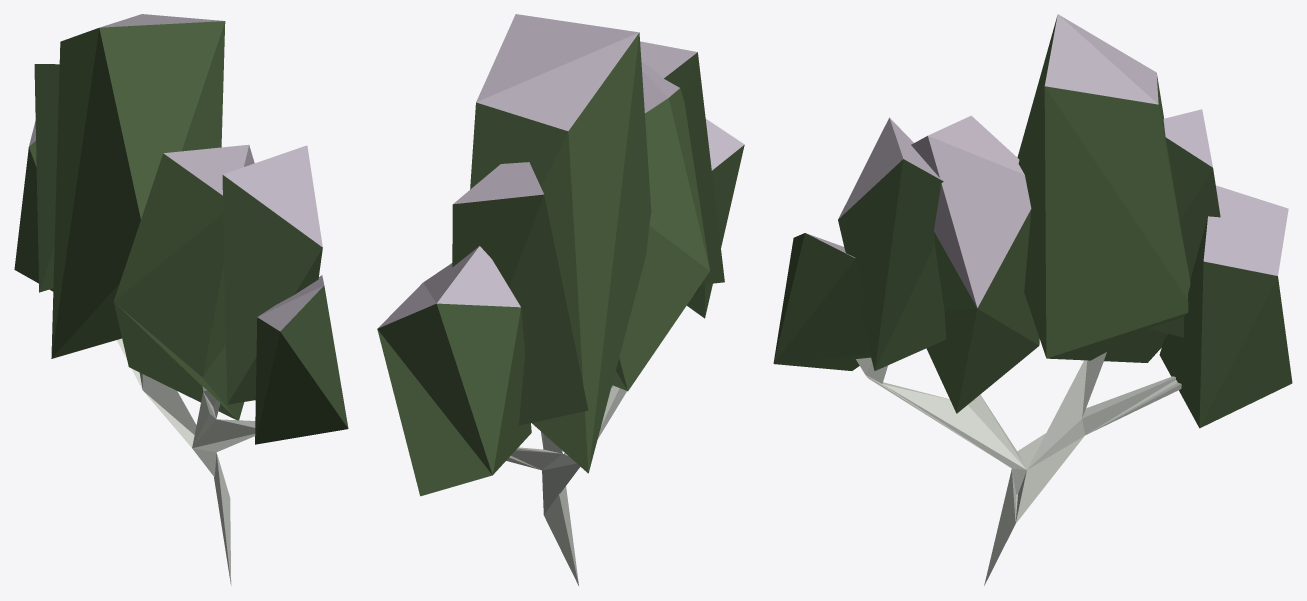
The model's file is BirchTree_Snow_4.lod3.glb.
3 renders of one model, left to right at view 1: azimuth 30°, elevation 25°; view 2: azimuth 150°, elevation 25°; view 3: azimuth 270°, elevation 25°, orthographic. The views are drawn at different scales.
Visible parts, largest first — view 1: BirchTree_Snow_4; view 2: BirchTree_Snow_4; view 3: BirchTree_Snow_4.
Part boxes in pixels (x1,y1,x2,y2): BirchTree_Snow_4: [14, 14, 348, 585]; BirchTree_Snow_4: [377, 14, 744, 585]; BirchTree_Snow_4: [773, 14, 1292, 585].
Bounding box in the file's own units: 1.13 × 3.56 × 3.17.
